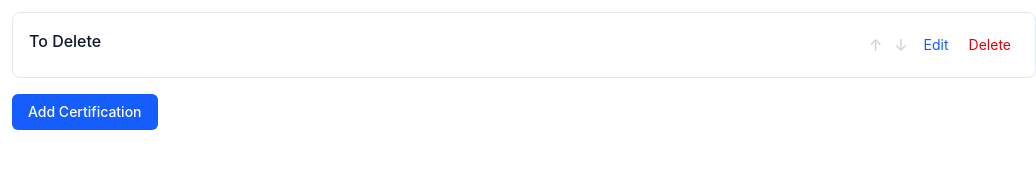
Test: CertificationSection › deletes a certification
Check: the heading "To Delete" is shown, box x1=29 y1=31 x2=101 y2=51
Click the button "Delete".
click(990, 45)  # box x1=961 y1=31 x2=1019 y2=59
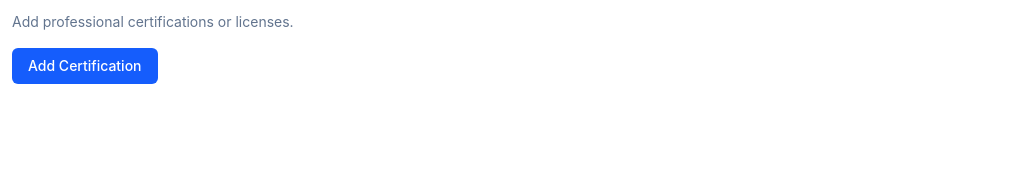
Check: the heading "To Delete" is gone
Check: the text "Add professional certifications or licenses." is shown, box x1=12 y1=13 x2=294 y2=30
